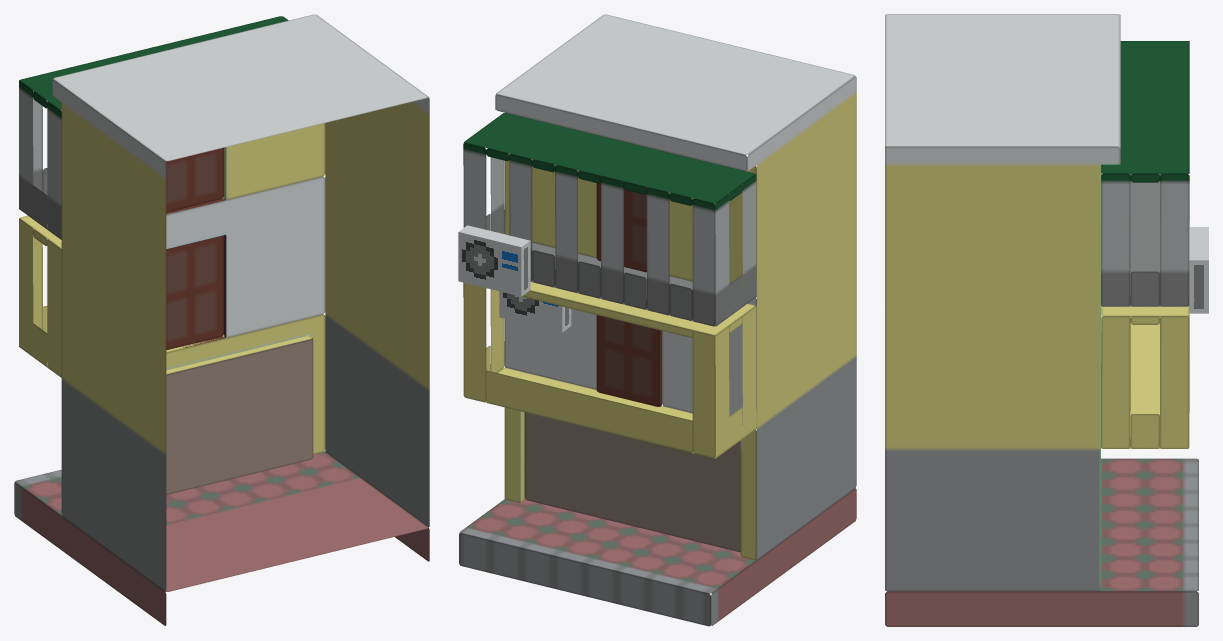
File: InnerHouse.fbx
The picture shows the model from 3 angles, left to right: view 1: azimuth 30°, elevation 25°; view 2: azimuth 150°, elevation 25°; view 3: azimuth 270°, elevation 25°; orthographic projection. The views are drawn at different scales.
Parts seen in each view (by area): view 1: House, SideRoad, plane, plane_1; view 2: House, plane, SideRoad, plane_1, AC, AC_1; view 3: House, SideRoad, plane, plane_1, AC.
Boxes of the visible parts, x1,y1,x2,y2 form: House: (52, 14, 429, 591); SideRoad: (14, 451, 429, 625); plane: (19, 16, 288, 239); plane_1: (19, 215, 226, 377); House: (495, 14, 856, 560); plane: (463, 113, 756, 326); SideRoad: (459, 488, 856, 626); plane_1: (463, 282, 756, 458); AC: (458, 225, 530, 296); AC_1: (499, 291, 571, 332); House: (885, 14, 1120, 591); SideRoad: (885, 458, 1198, 626); plane: (1101, 41, 1189, 306); plane_1: (1101, 222, 1189, 448); AC: (1189, 227, 1208, 313).
Bounding box in the file's own units: 200 × 338 × 206.
3 materials, 3 textured.
